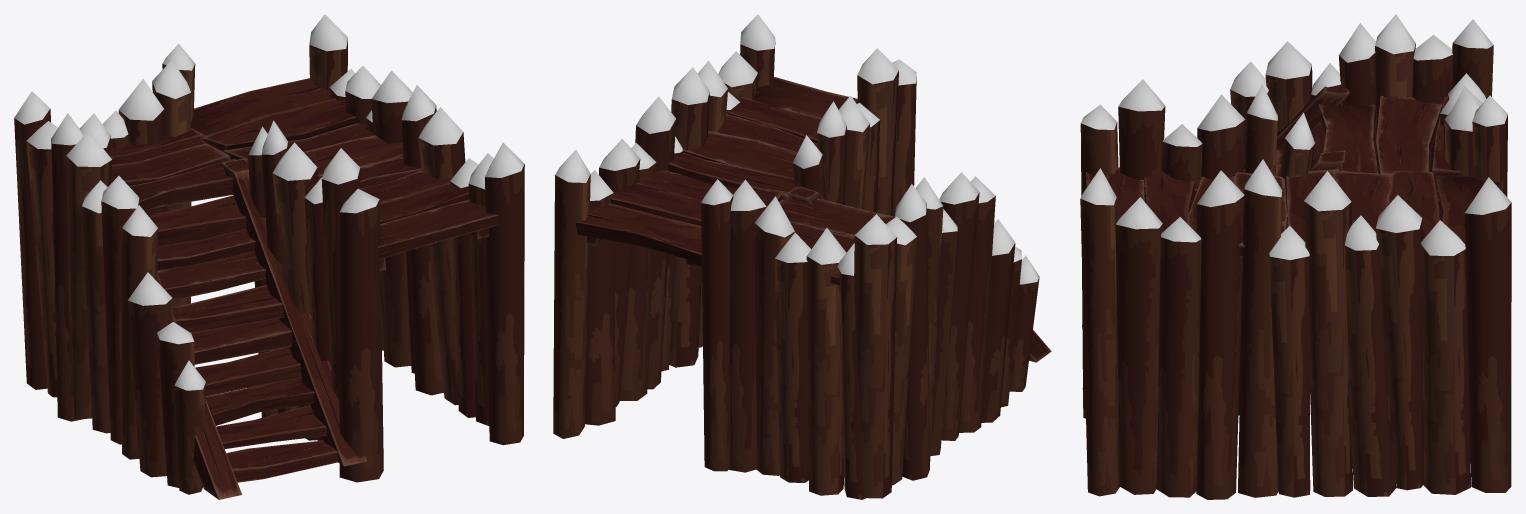
The model's file is SM_PROP_wall_wood_stairs_02.fbx.
3 views of the same model, side by side, from view 1: azimuth 30°, elevation 25°; view 2: azimuth 150°, elevation 25°; view 3: azimuth 270°, elevation 25° (orthographic). The views are drawn at different scales.
Parts seen in each view (by area): view 1: SM_PROP_wall_wood_stairs_02; view 2: SM_PROP_wall_wood_stairs_02; view 3: SM_PROP_wall_wood_stairs_02.
Boxes of the visible parts, x1,y1,x2,y2 form: SM_PROP_wall_wood_stairs_02: (14,14,524,499); SM_PROP_wall_wood_stairs_02: (553,14,1051,499); SM_PROP_wall_wood_stairs_02: (1080,14,1511,499).
Size of the model in its own units: 617 by 541 by 627.
